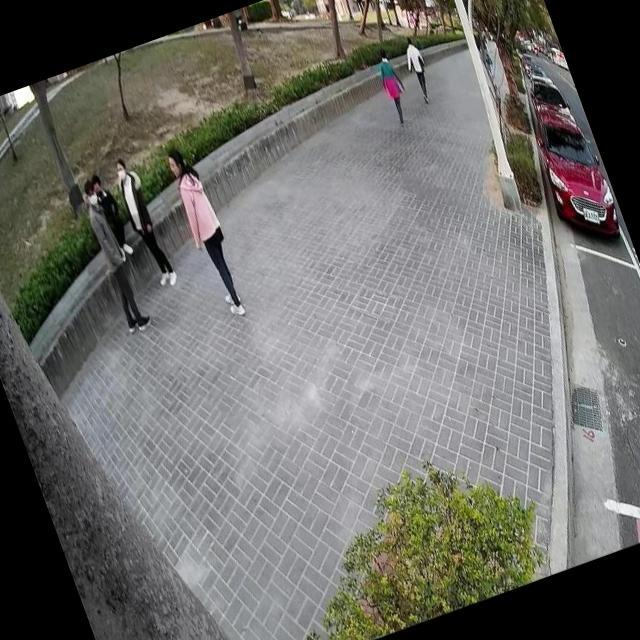person: (154, 136, 254, 327), (71, 172, 158, 339), (104, 148, 182, 294), (82, 164, 138, 265), (368, 41, 419, 132), (394, 31, 440, 108)
